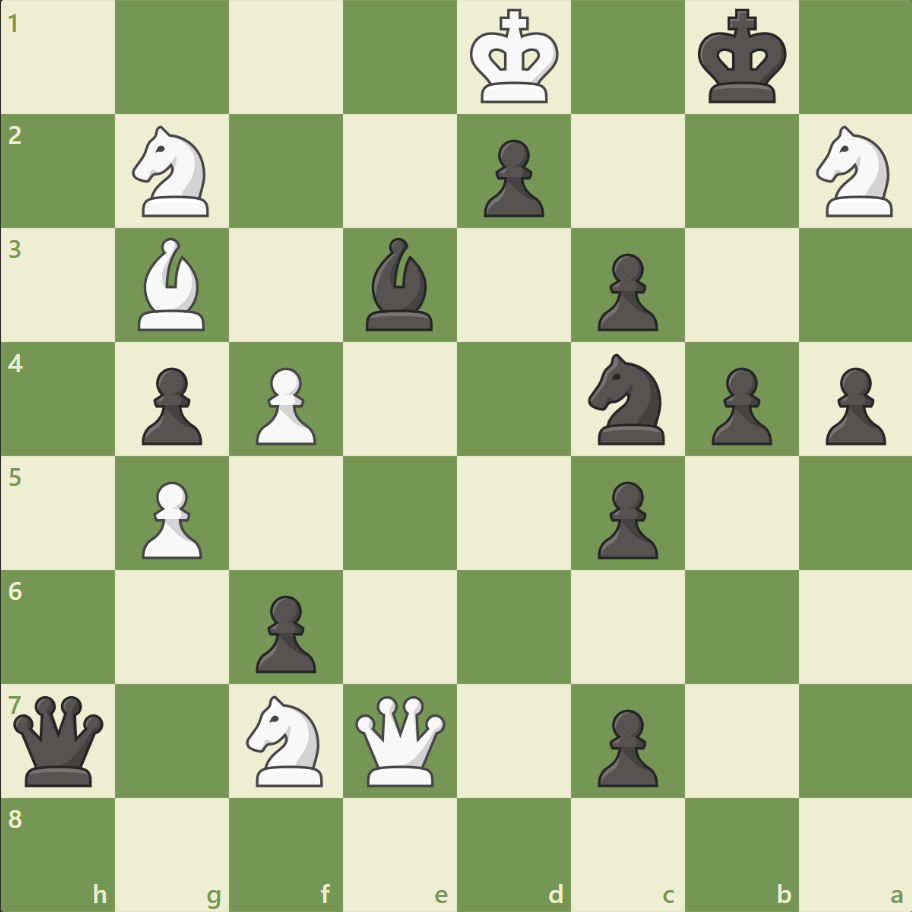B: (131, 233, 215, 336)
K: (465, 4, 565, 112)
N: (124, 121, 222, 223), (238, 688, 335, 791), (806, 121, 903, 223)
P: (133, 473, 208, 564), (247, 359, 322, 450)
Q: (351, 690, 450, 789)
b: (358, 233, 442, 336)
k: (692, 4, 792, 112)
n: (579, 348, 676, 450)
p: (247, 586, 322, 677), (701, 359, 776, 450), (133, 359, 208, 450), (474, 132, 549, 223), (588, 700, 662, 791), (588, 473, 662, 564), (815, 359, 889, 450), (588, 246, 662, 337)
q: (10, 690, 109, 789)
